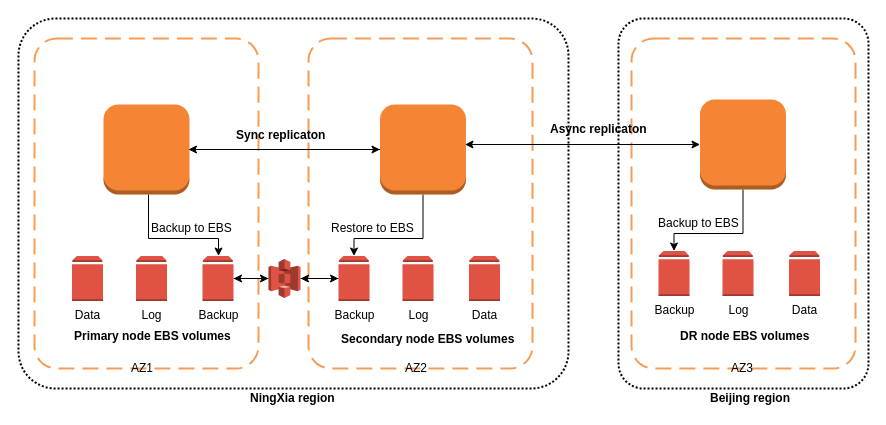
Some shapes in this 886 by 425 pixel diagram are drawn without their labels. The shapes that lost their labels are listed below. From the top down, each one's centre as x and y in pixels, then its label:
point (146, 149): Primary HANA Instance
point (422, 149): Secondary HANA Instance
point (742, 144): DR site HANA Instance
point (284, 278): S3
